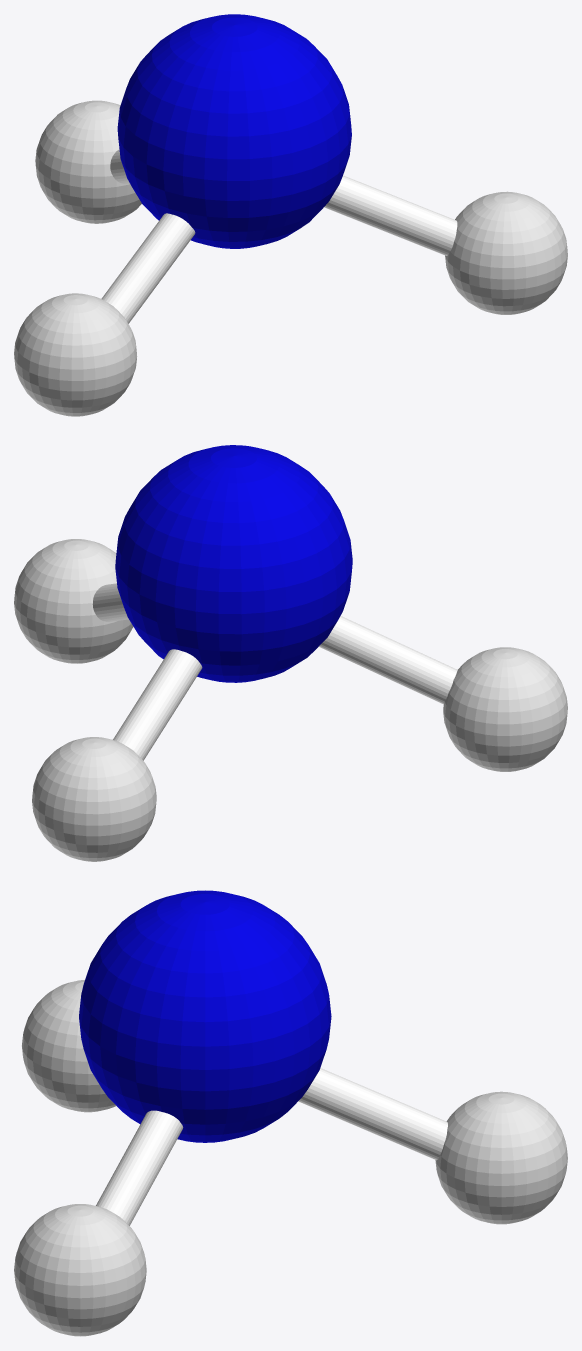
The picture shows the model from 3 angles, top to bottom: view 1: azimuth 30°, elevation 25°; view 2: azimuth 150°, elevation 25°; view 3: azimuth 270°, elevation 25°; orthographic projection. The views are drawn at different scales.
Visible parts, largest first — view 1: 구체.002; view 2: 구체.002; view 3: 구체.002.
Boxes of the visible parts, box(x1,y1,x2,y2) form: 구체.002: box(14, 14, 567, 416); 구체.002: box(14, 445, 567, 861); 구체.002: box(14, 890, 567, 1336).
Size of the model in its own units: 425 by 224 by 355.
